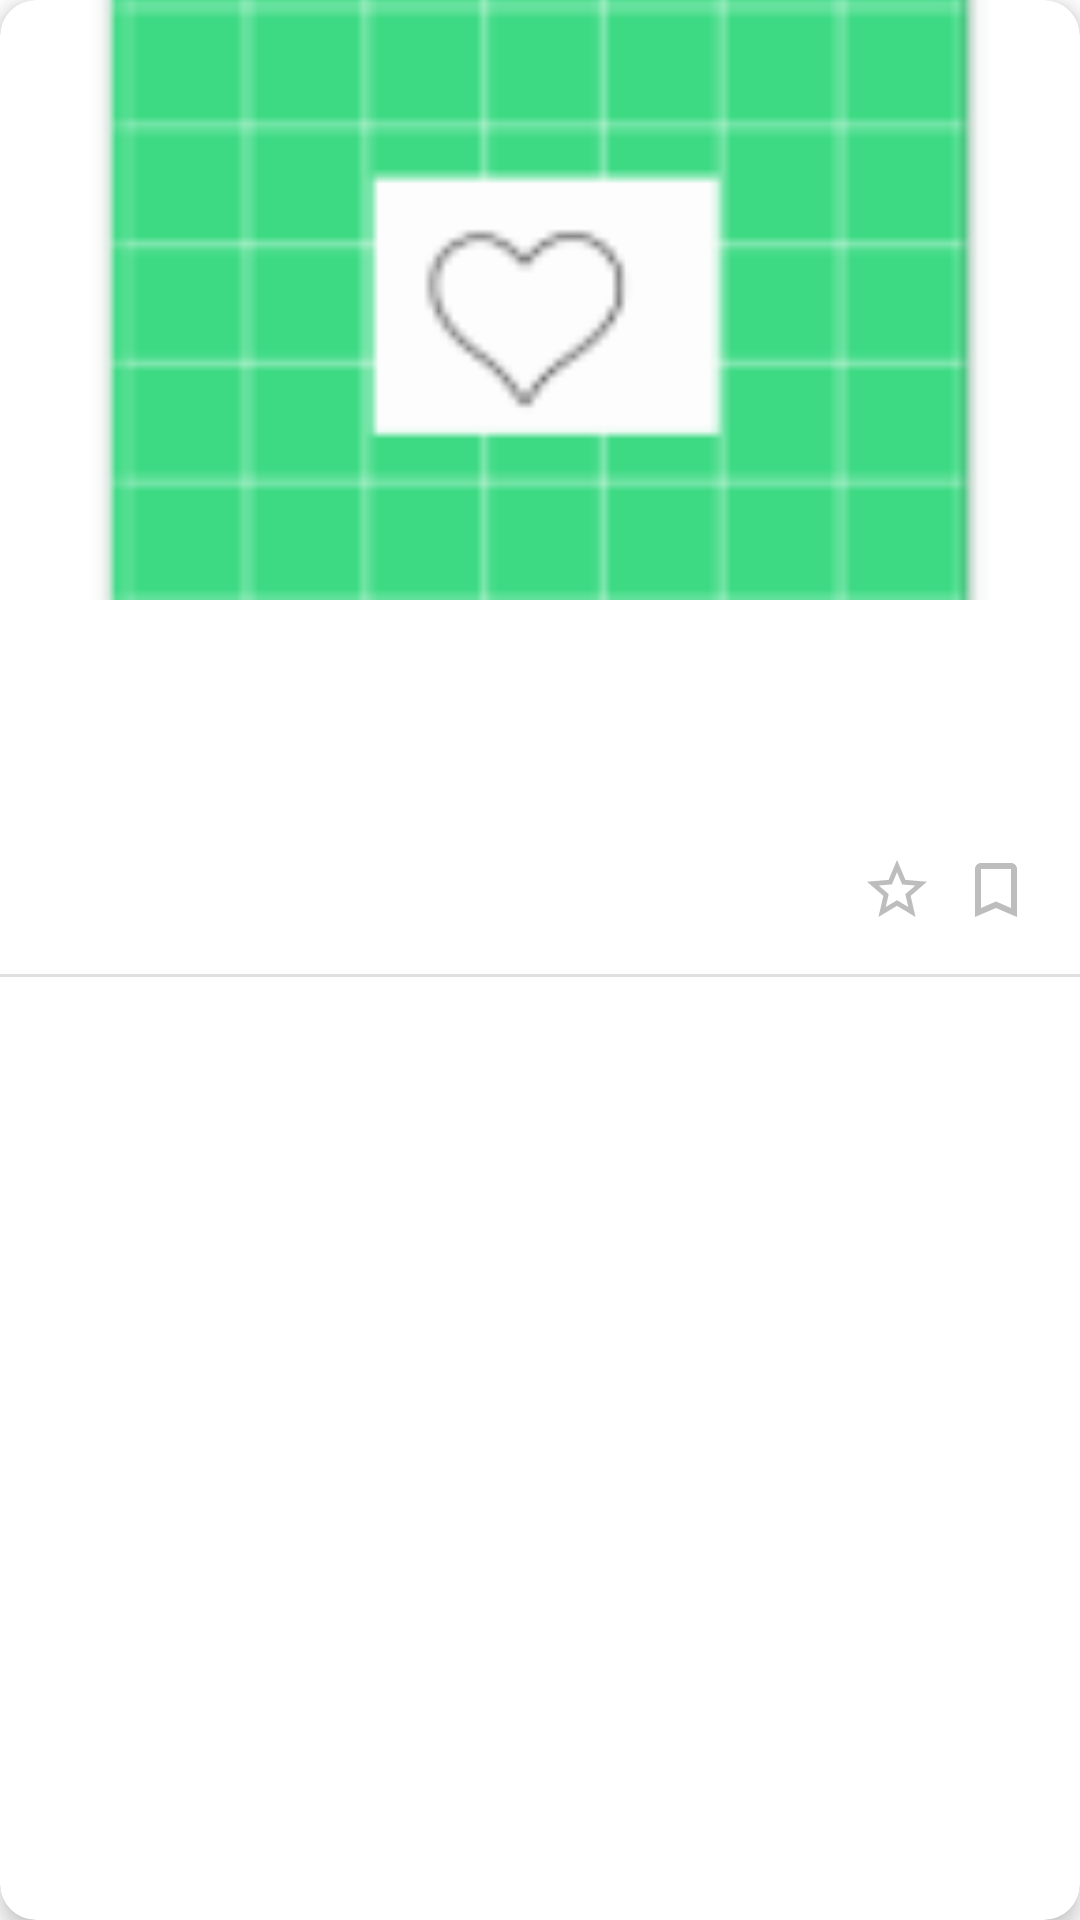

Where icons sit on this 1080w x 1920h app screen, as (x1,y1,x2,y2):
star border: (868,861,926,917)
turned in not: (975,863,1017,917)
